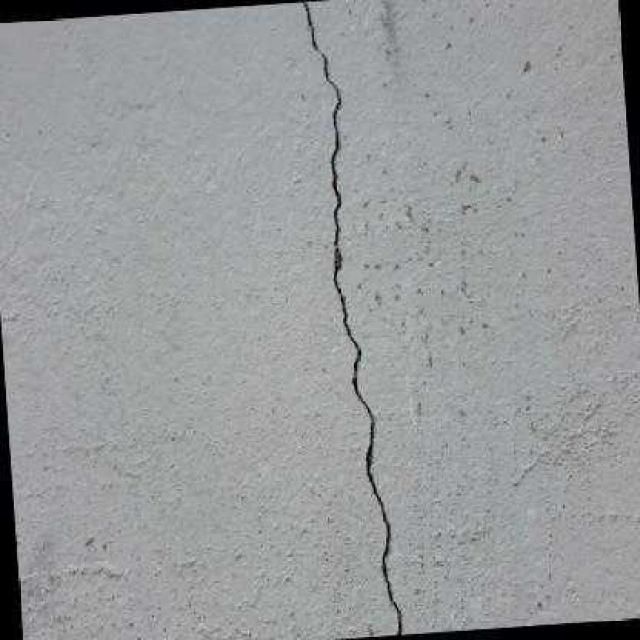D00: (300, 0, 400, 636)
